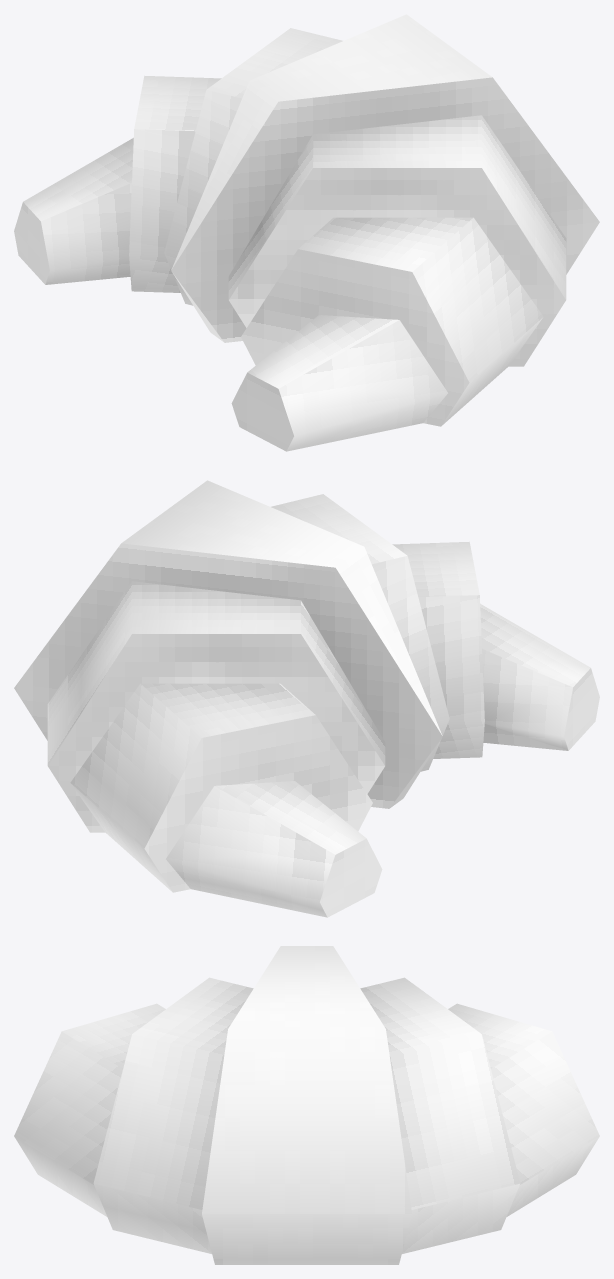
File: Croissant.glb
The picture shows the model from 3 angles, top to bottom: view 1: azimuth 30°, elevation 25°; view 2: azimuth 150°, elevation 25°; view 3: azimuth 270°, elevation 25°; orthographic projection. The views are drawn at different scales.
Visible parts, largest first — view 1: Croissant; view 2: Croissant; view 3: Croissant.
Boxes of the visible parts, x1=… form: Croissant: x1=14, y1=14, x2=599, y2=451; Croissant: x1=14, y1=480, x2=599, y2=917; Croissant: x1=14, y1=946, x2=599, y2=1264.
Size of the model in its own units: 0.1459 by 0.0816 by 0.2014.
1 material, 1 textured.
